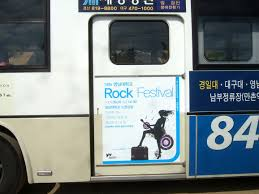entrance: (92, 14, 188, 178)
